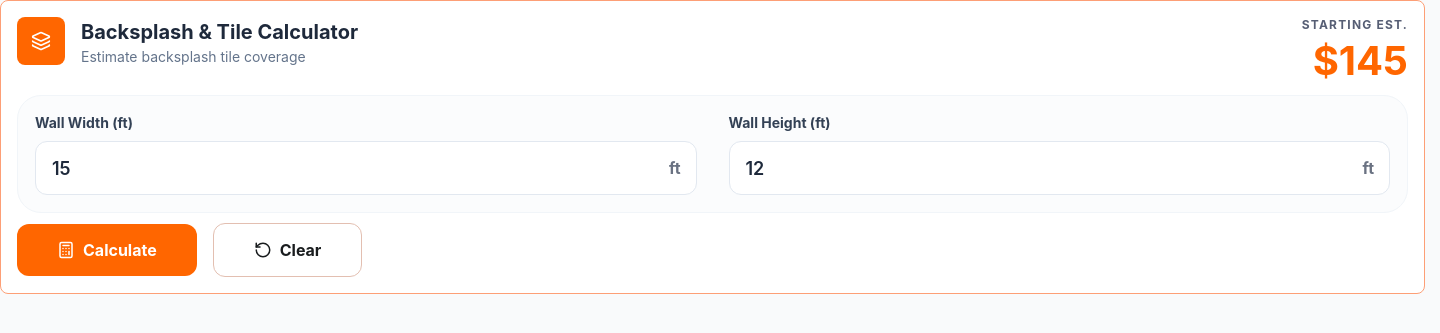
Test: BacksplashCalculator › shows inline errors when calculating with empty dimensions
Clear the number field labelled "Wall Width (ft)": coordinates (366, 168) [35,141,696,195]
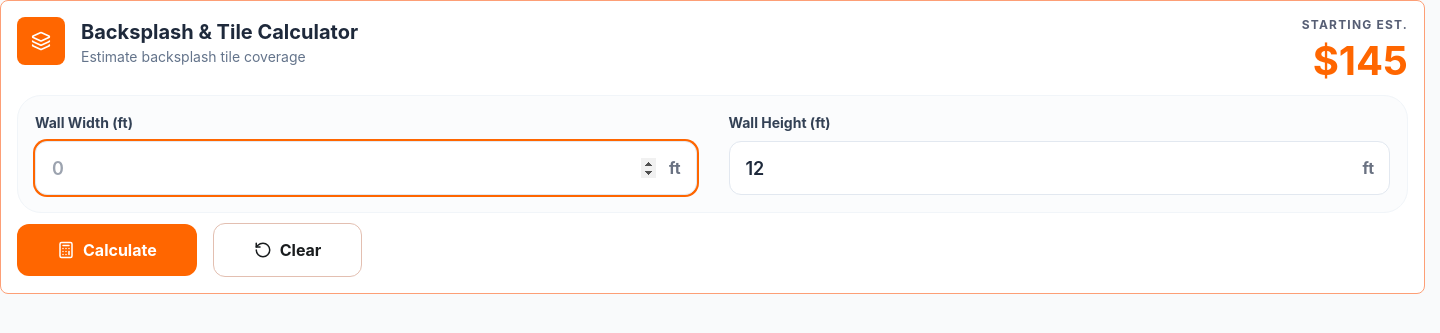
Clear the number field labelled "Wall Height (ft)": coordinates (1059, 168) [728,141,1390,195]
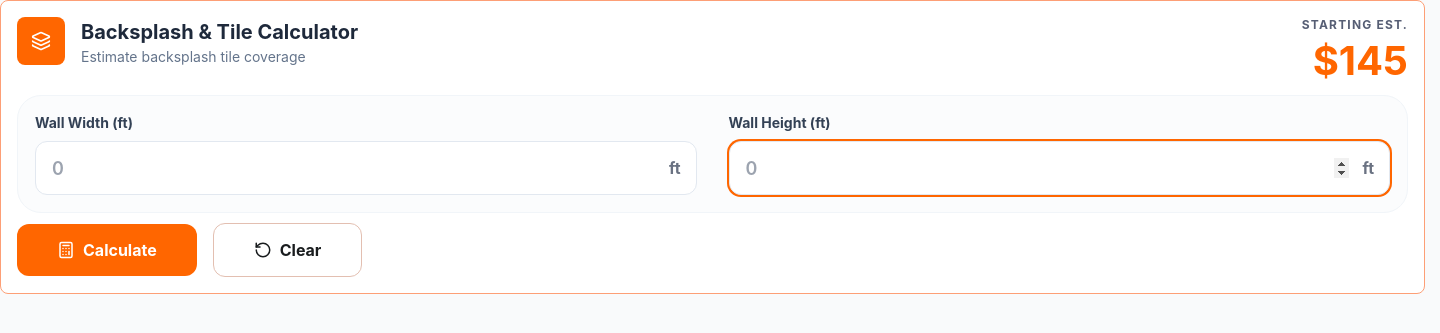
Click the button "Calculate": coordinates (107, 250) [17,224,197,276]
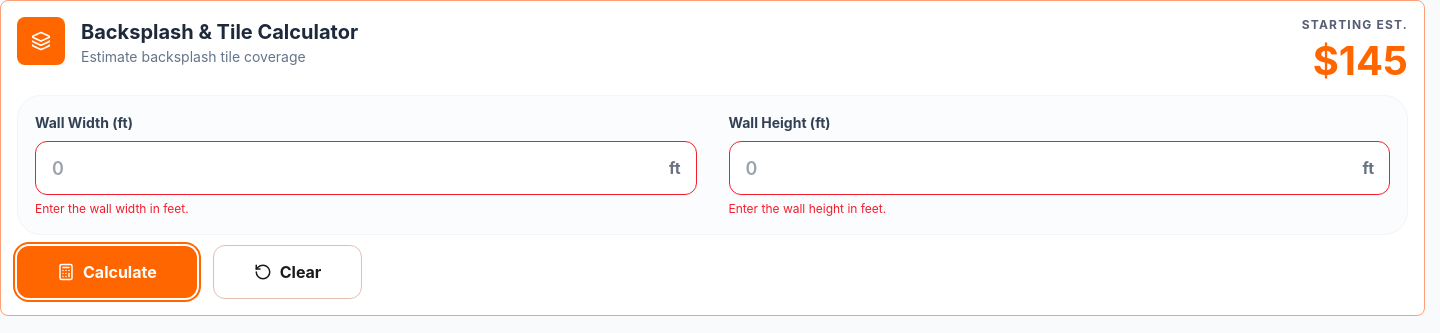
Expected: the text "Enter the wall width in feet." is shown, [35,201,189,216]
Expected: the text "Enter the wall height in feet." is shown, [728,201,886,216]
